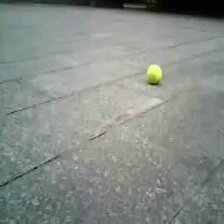tennis: (147, 64, 161, 82)
